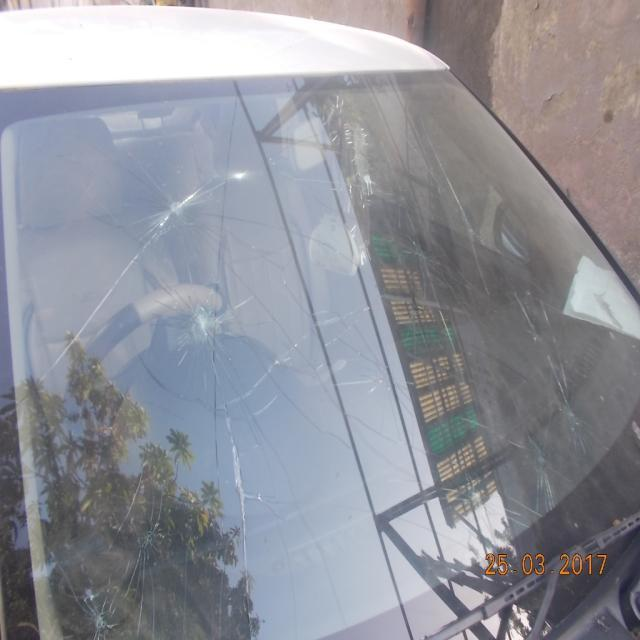Glass_Break: (186, 298, 225, 350), (131, 508, 163, 562), (163, 186, 190, 223)
